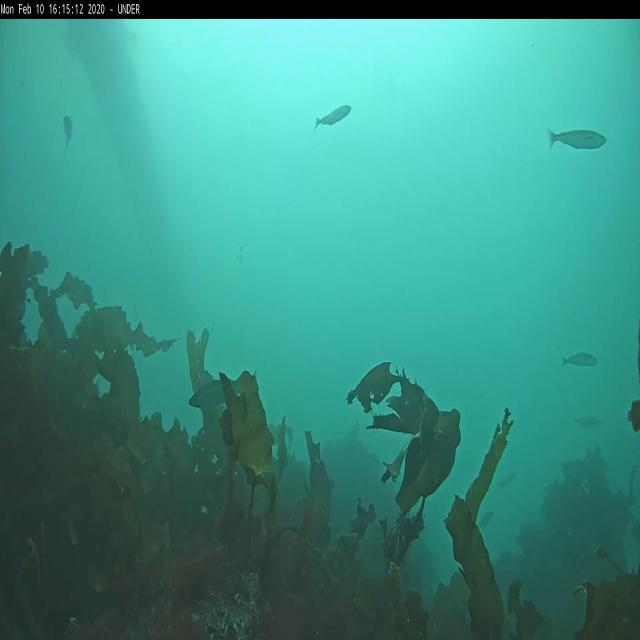fish: (188, 369, 261, 408), (549, 128, 605, 151), (312, 104, 351, 130), (560, 351, 598, 368), (574, 416, 602, 429), (63, 114, 73, 150), (498, 474, 516, 492)
